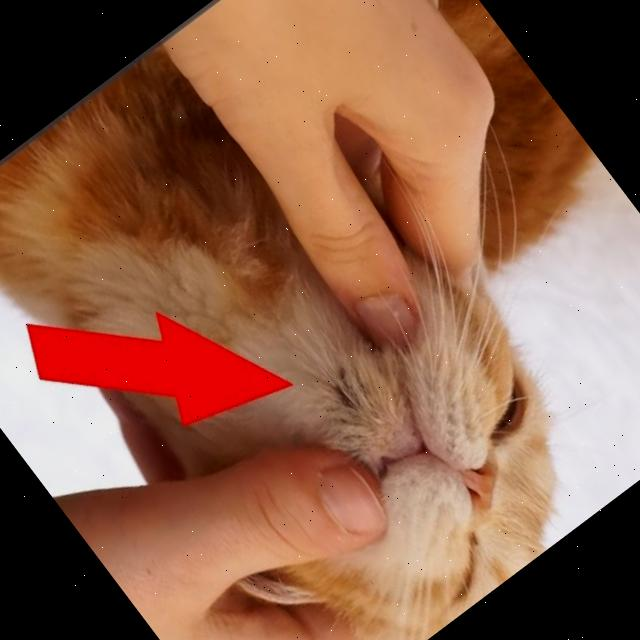cat-acne: (317, 357, 378, 421)
